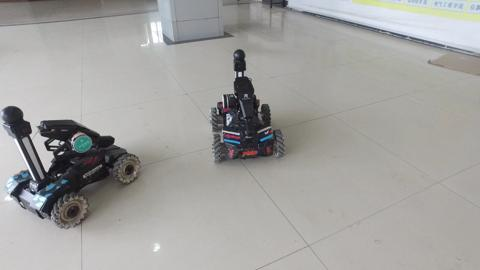chariot: (1, 100, 144, 235), (204, 48, 291, 170)
